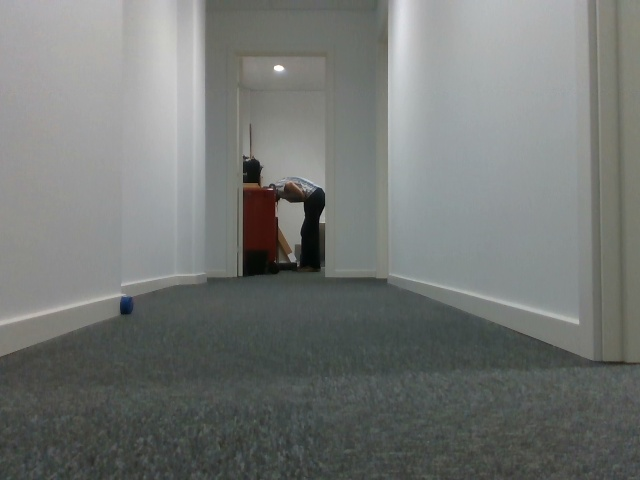alfa: (118, 291, 135, 318)
